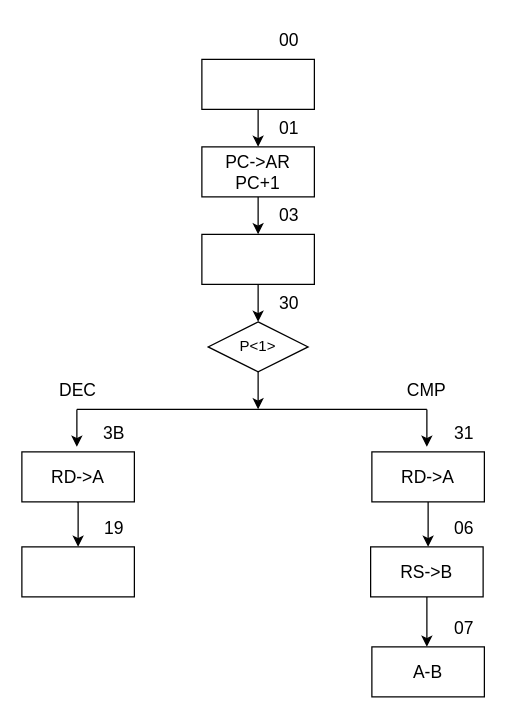
The diagram is 524 pixels wide and 719 high, and some of its shapes have lost their labels. Here are the shapes that lost their labels. From the top down, the box of each, then its label:
(201, 58, 314, 109): NOP
(201, 233, 314, 284): MEM->R
(21, 546, 134, 597): A-1->RD
